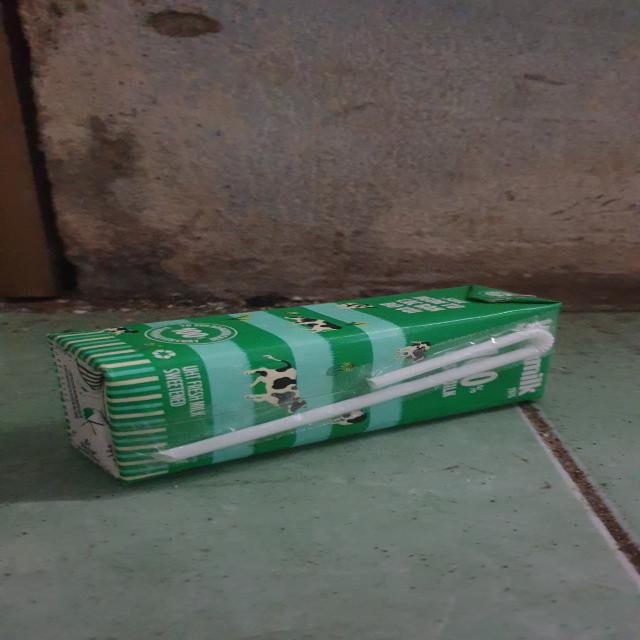Vina: (46, 280, 557, 482)
